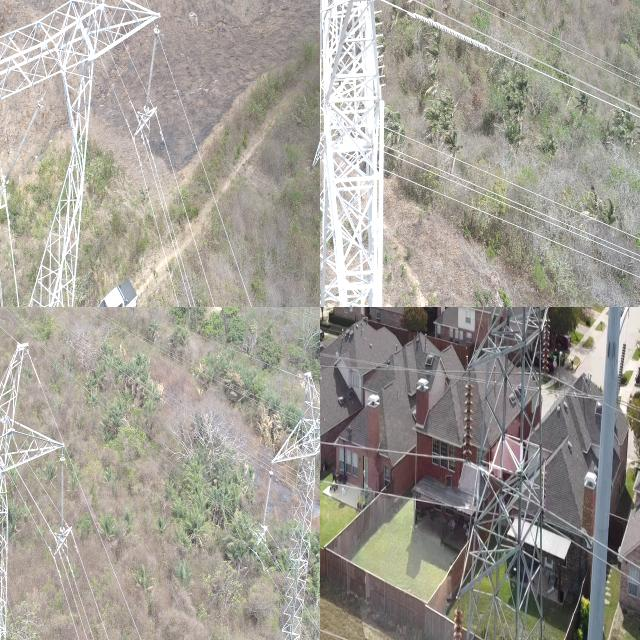杆塔: (0, 0, 159, 307), (449, 307, 570, 640), (0, 341, 83, 640), (237, 370, 320, 640), (320, 0, 386, 307)
正常电缆: (320, 468, 446, 518), (576, 521, 640, 591), (320, 430, 440, 463), (579, 382, 640, 432)
正常绝缘子: (258, 462, 276, 566), (460, 369, 477, 468), (143, 21, 160, 117), (541, 312, 554, 384), (449, 598, 466, 640), (60, 456, 66, 533)
